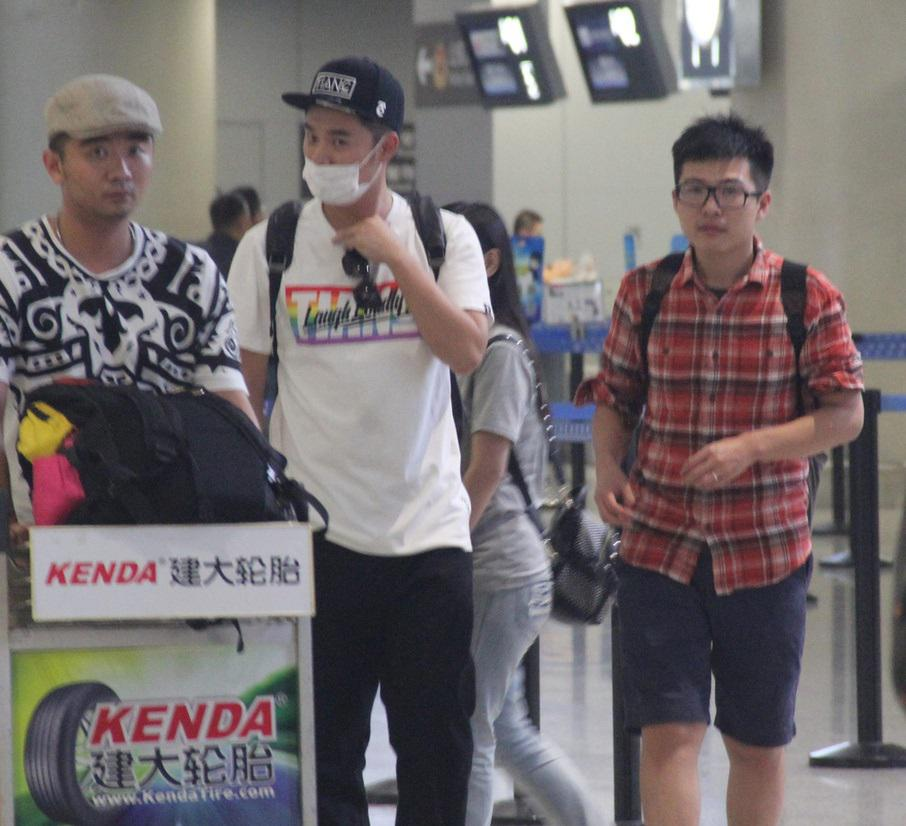NONE: (68, 135, 154, 217), (679, 163, 758, 251)
WRONG: (298, 118, 383, 203)
